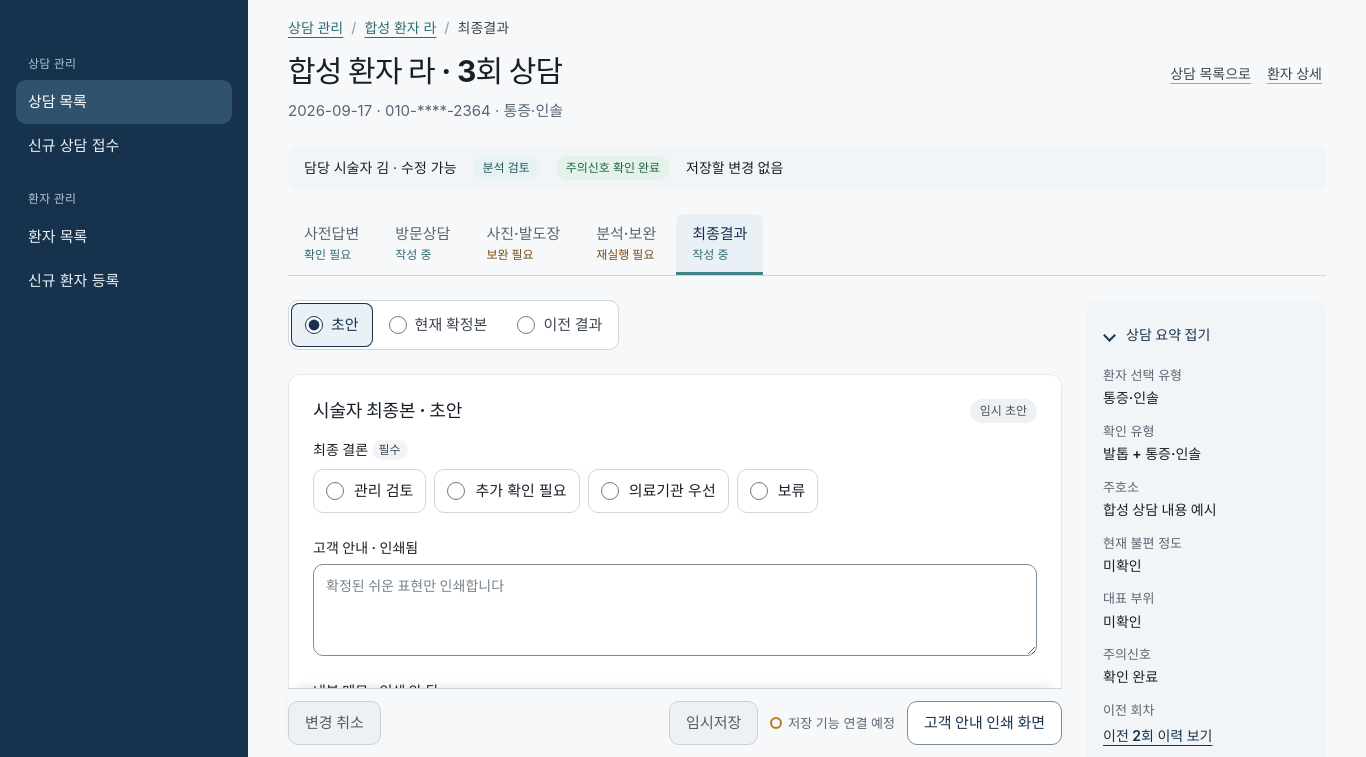
Test: B · print uses the same confirmed-result rule as the result tab › shows a no-confirmed-result notice with a way back for unfinalized consultations
(page scrolled)
Step 1. Click the radio button named "result-view" → {"x": 398, "y": 325}, box top-left (389, 316), bottom-right (407, 334)
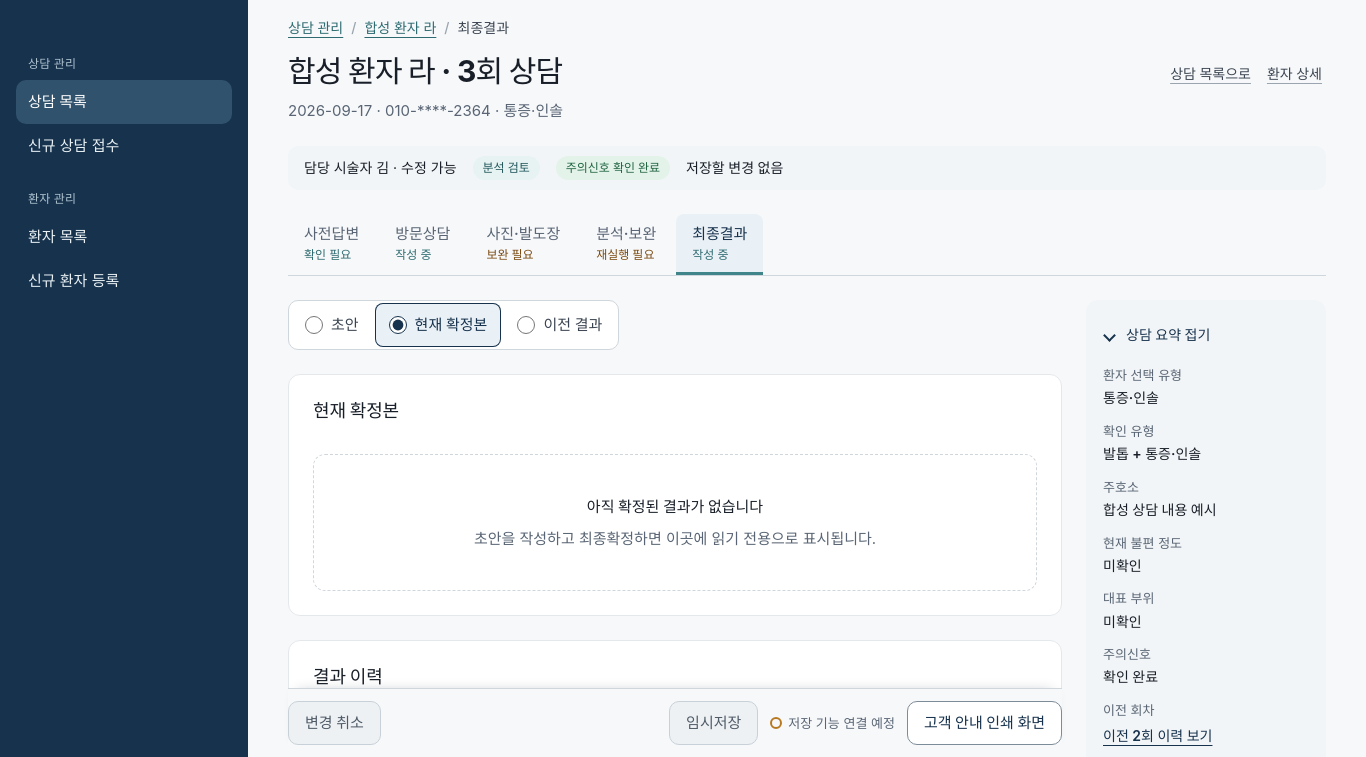
Check: the text "아직 확정된 결과가 없습니다" is shown, box top-left (587, 496), bottom-right (763, 519)
